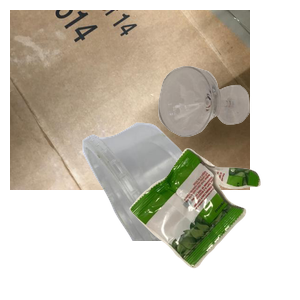cardboard: (10, 10, 250, 190)
glass: (156, 64, 300, 194)
plastic: (80, 120, 289, 300)
trash: (127, 146, 300, 300)
